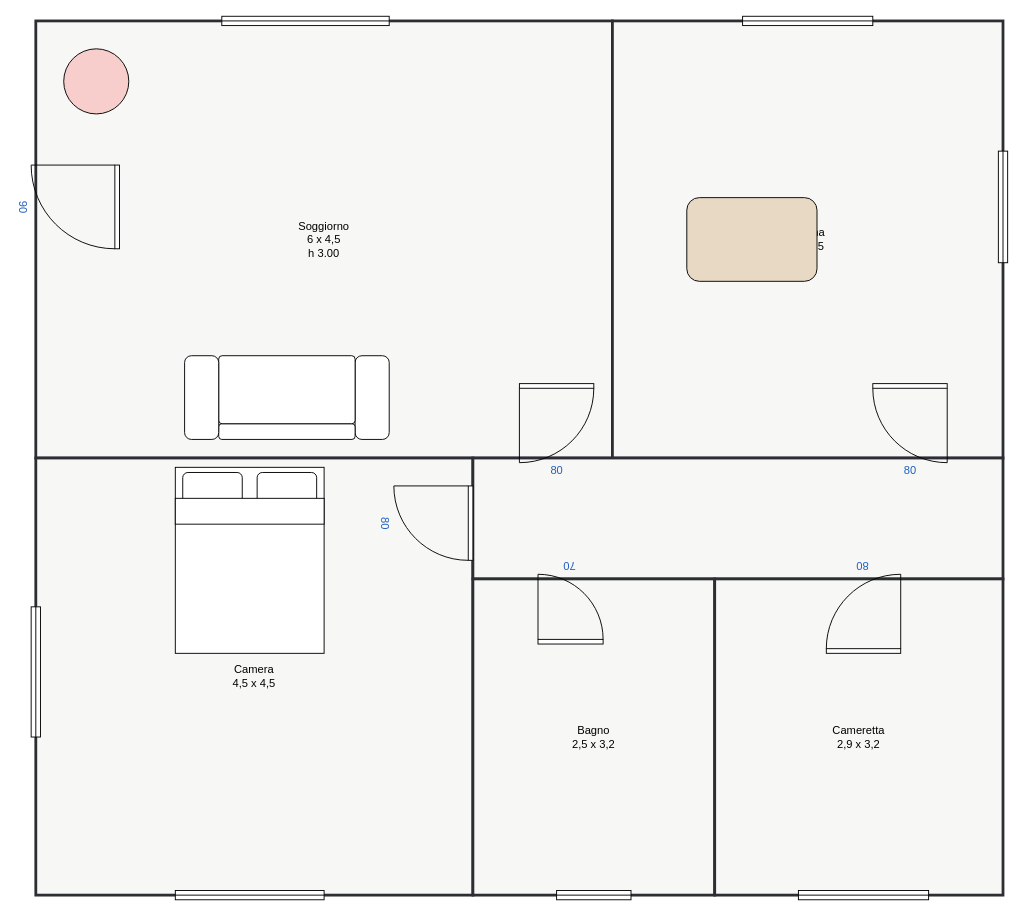
The diagram is 1024 pixels wide and 916 high, and some of its shapes have lost their labels. Here are the shapes that lost their labels. From the top down, the centre of each, then its label:
the point at 96,81: Camino
the point at 751,239: Tavolo
the point at 737,518: Disimpegno 5,5 x 1,2
